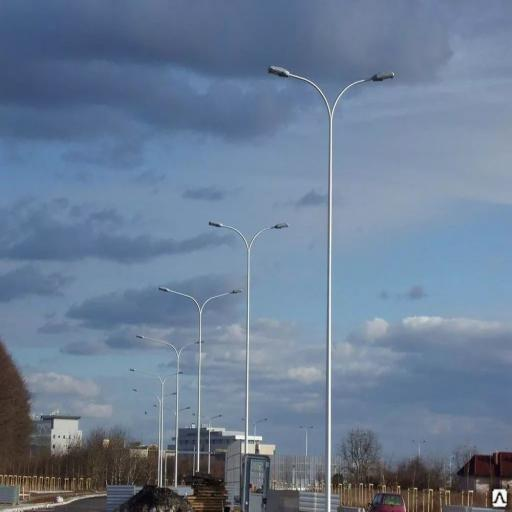Light-pole: (266, 50, 400, 512), (204, 202, 292, 512), (152, 262, 246, 510), (130, 319, 208, 507), (124, 350, 181, 510)
